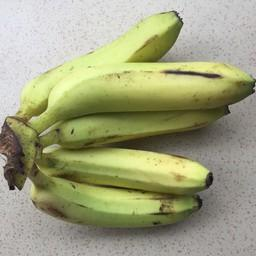Good_banana: (20, 10, 252, 225)
